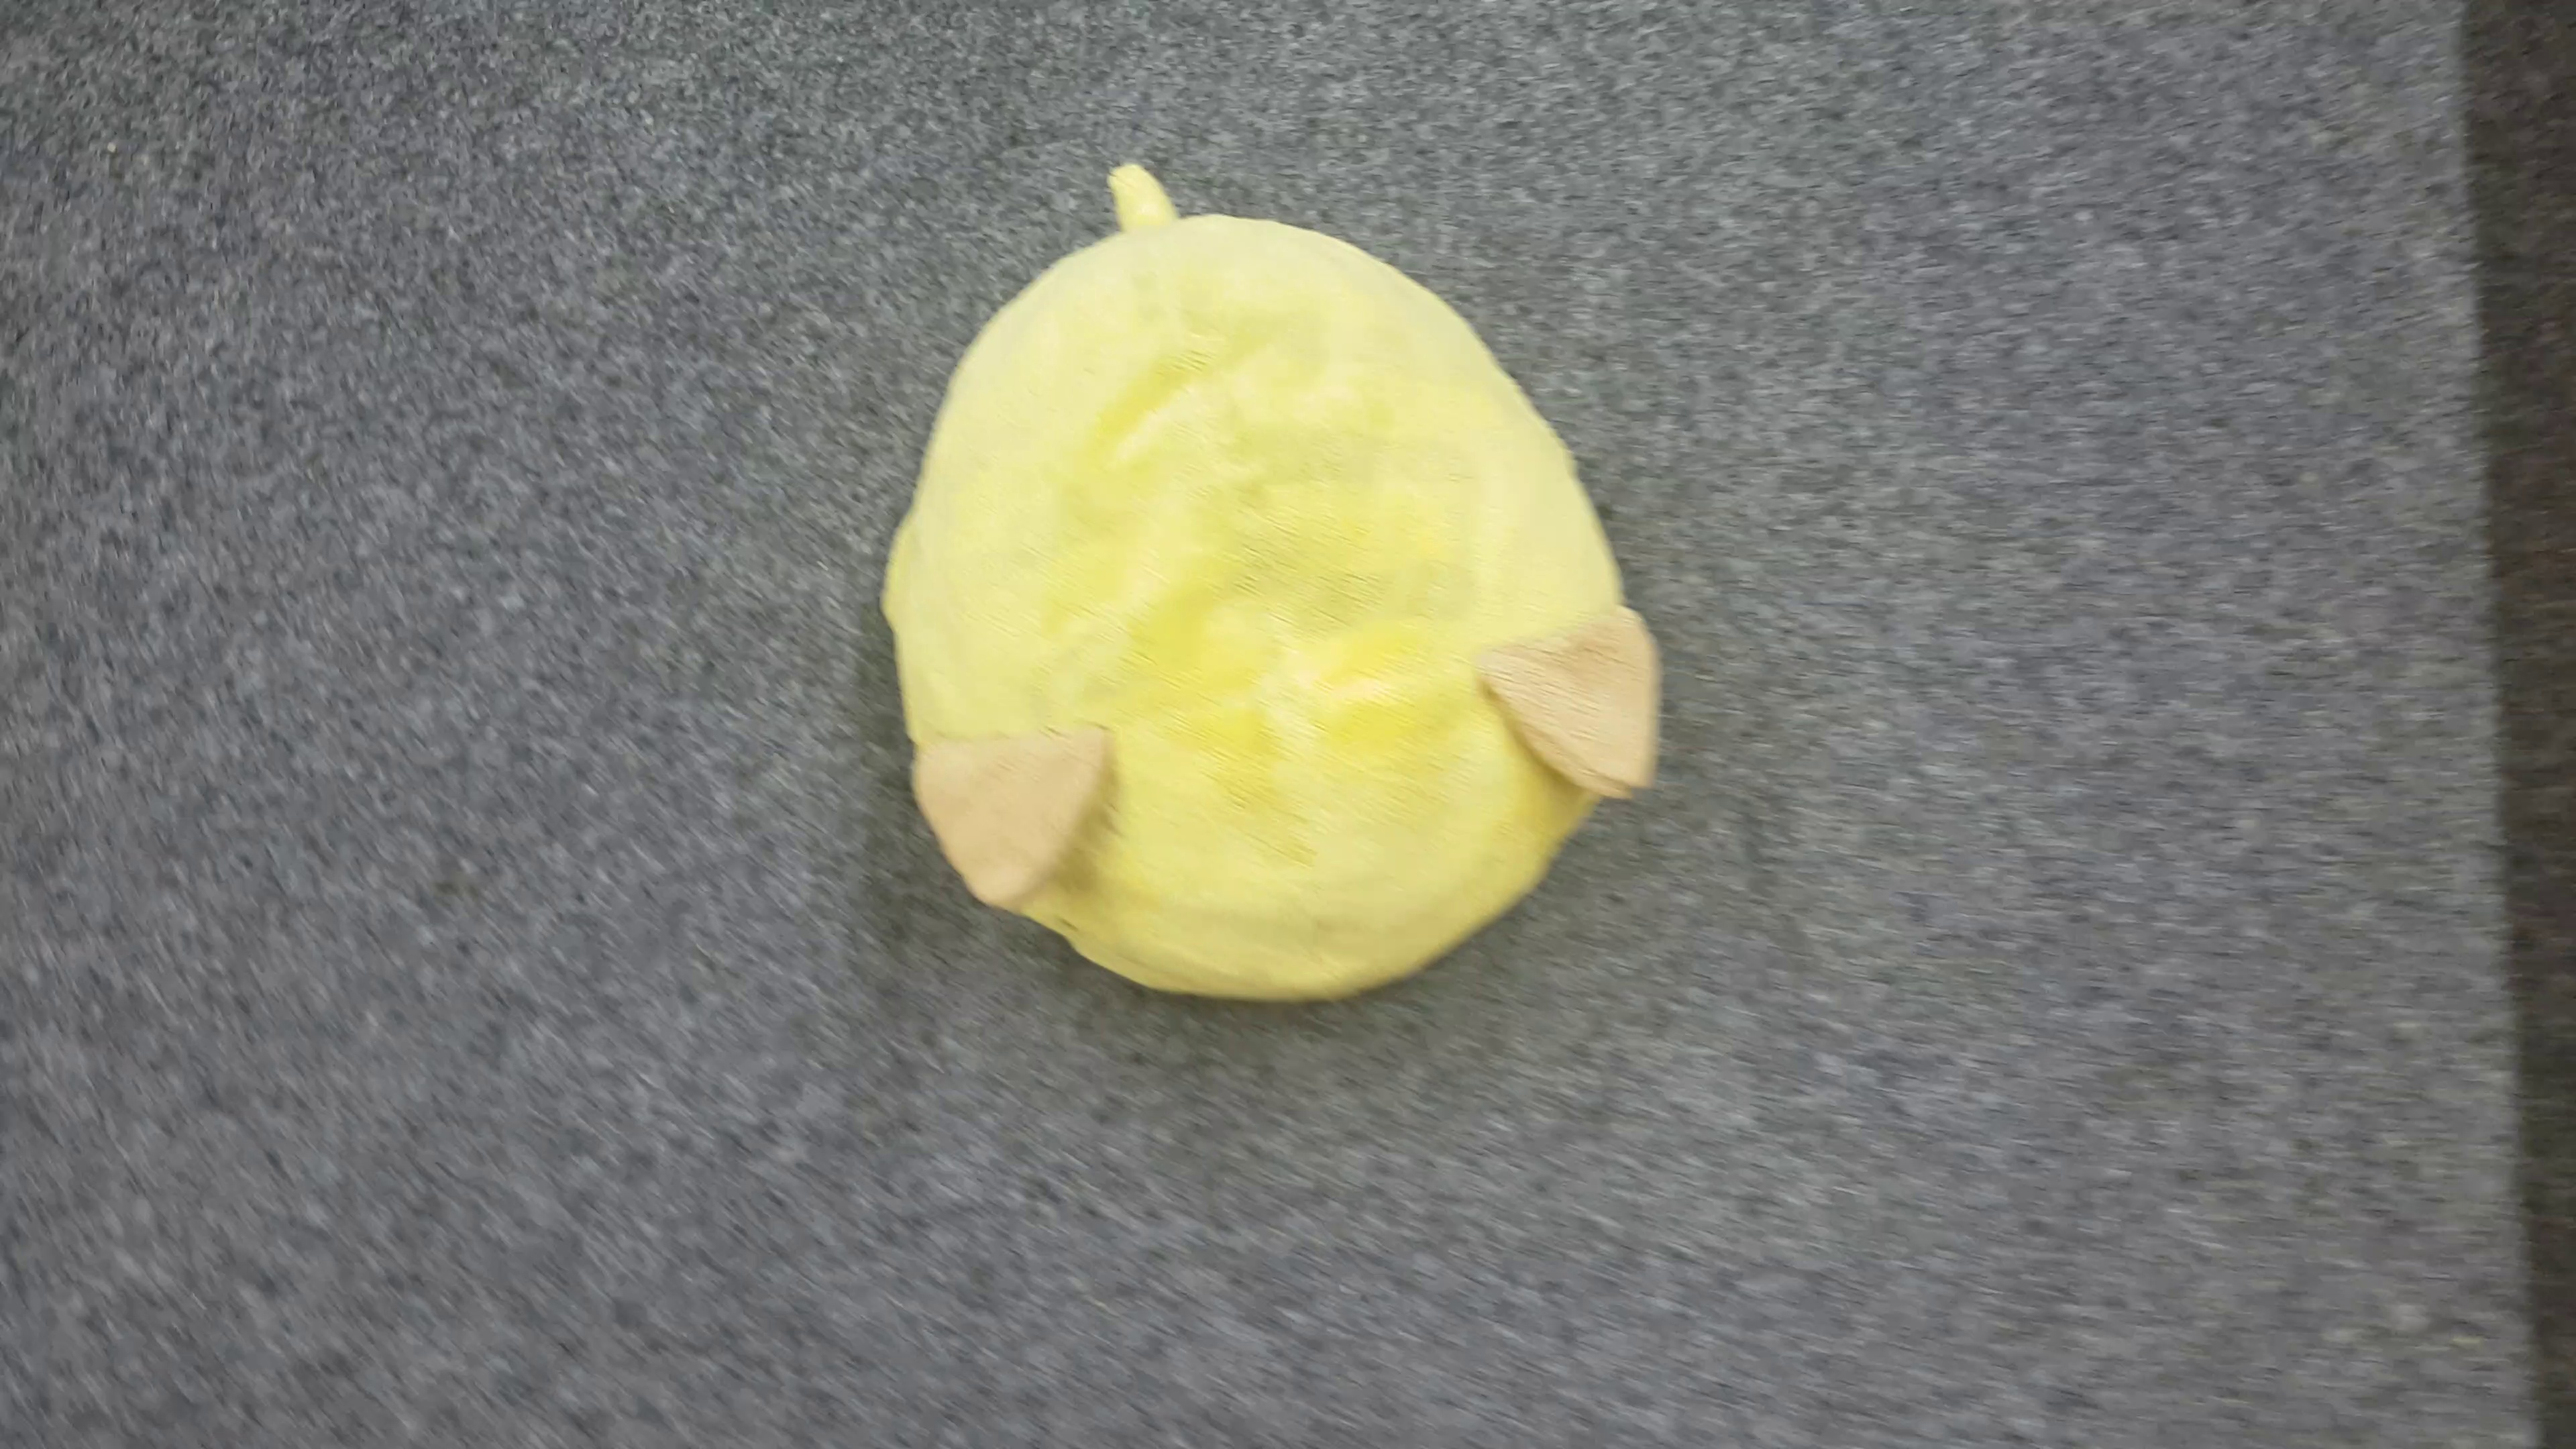grasp: (881, 157, 1656, 1010)
